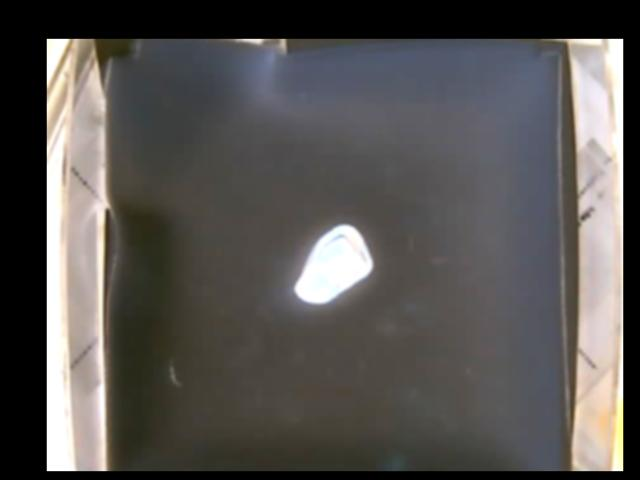Pebble: (293, 221, 376, 303)
